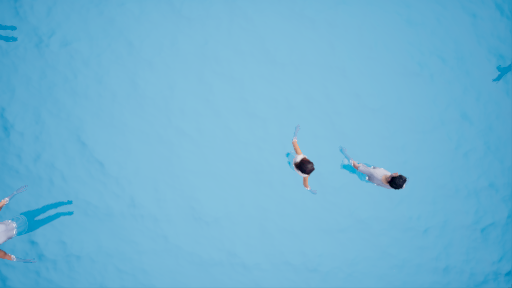person: (1, 182, 76, 262), (339, 144, 411, 194), (280, 124, 321, 198)
